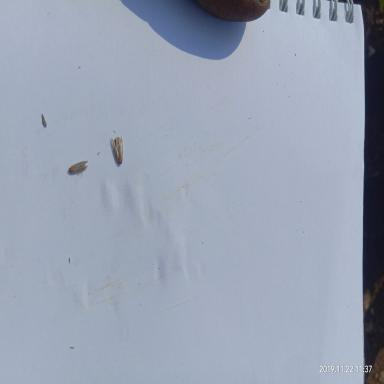pbw: (66, 156, 88, 182), (108, 135, 126, 166)
